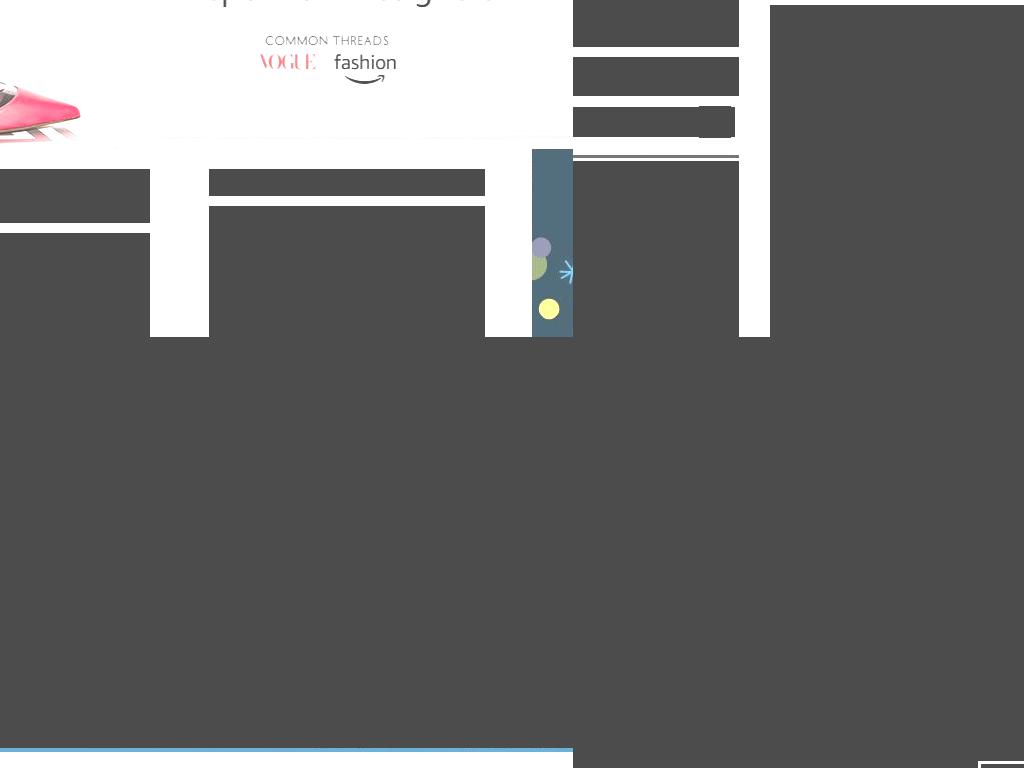button: (209, 206, 485, 337), (770, 5, 1024, 90), (770, 90, 1024, 157), (770, 223, 1024, 290), (770, 157, 1024, 223), (0, 233, 150, 337), (770, 290, 1024, 337), (613, 57, 739, 96), (573, 57, 614, 96)
field: (573, 107, 735, 137)
heading: (592, 478, 1024, 635), (0, 372, 298, 440), (770, 38, 1024, 77), (0, 169, 150, 223), (209, 169, 485, 196), (770, 124, 1024, 144), (770, 190, 1024, 210), (770, 257, 1024, 277), (770, 324, 1024, 337)
iframe: (573, 0, 739, 47)
image: (0, 337, 573, 748), (573, 347, 1024, 768), (209, 206, 485, 337), (0, 233, 150, 337), (699, 106, 731, 138)
link: (613, 57, 739, 79), (573, 57, 614, 79), (770, 18, 821, 35), (770, 104, 821, 121), (770, 170, 821, 187), (770, 237, 821, 254), (770, 304, 821, 321)
text: (0, 449, 298, 549), (730, 636, 1024, 699), (0, 565, 156, 588), (825, 104, 888, 121), (638, 82, 714, 96), (825, 170, 887, 187), (825, 304, 880, 321), (825, 18, 873, 35), (825, 237, 852, 254), (665, 116, 695, 130)
